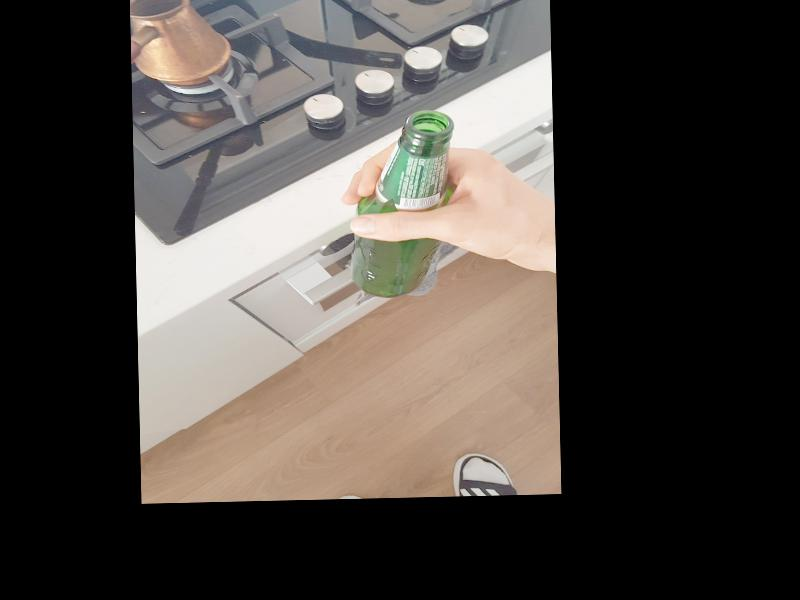Beer: (348, 109, 457, 298)
